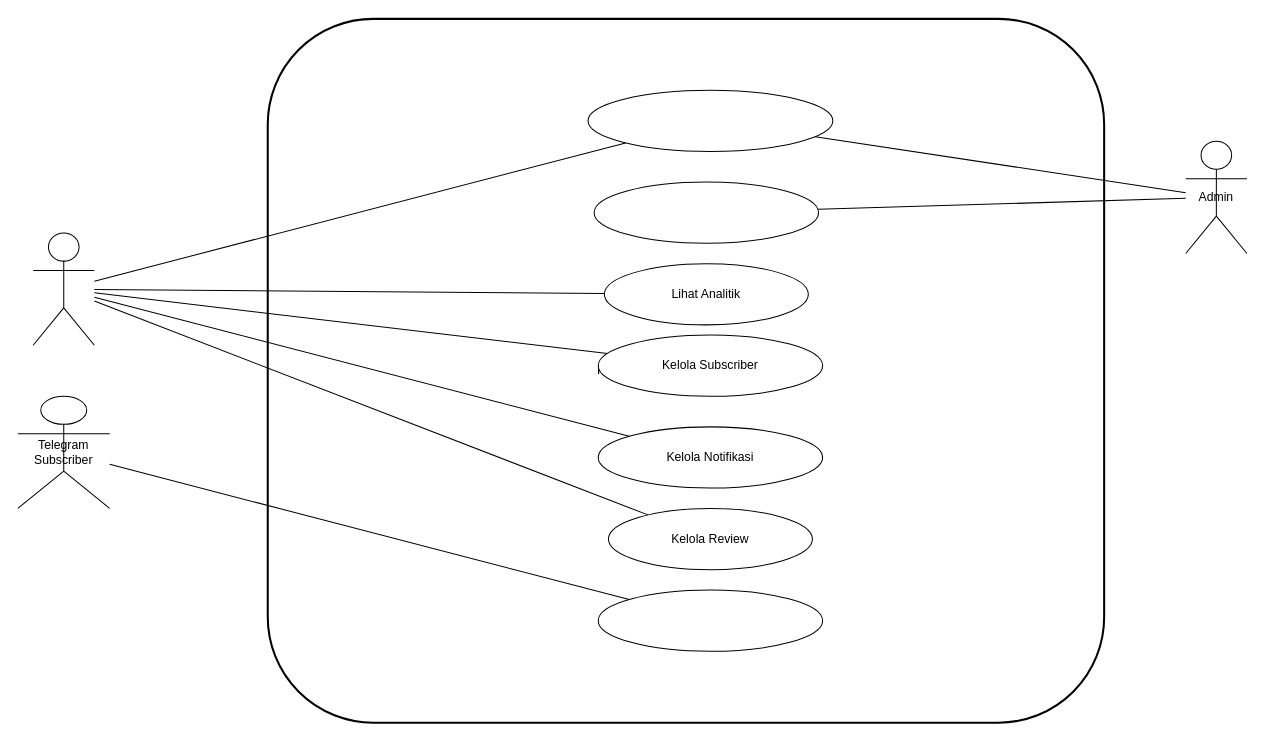
Image size: 1265x741. Some labels were removed from this diagram. The centre of each missing label's shape, as x and y in pixels:
"Kelola Akses (Login/Registrasi)" goes at (710,120).
"Menerima Notifikasi" goes at (710,620).
"Monitoring Multi-Hotel" goes at (706,212).
"User" goes at (63,288).
